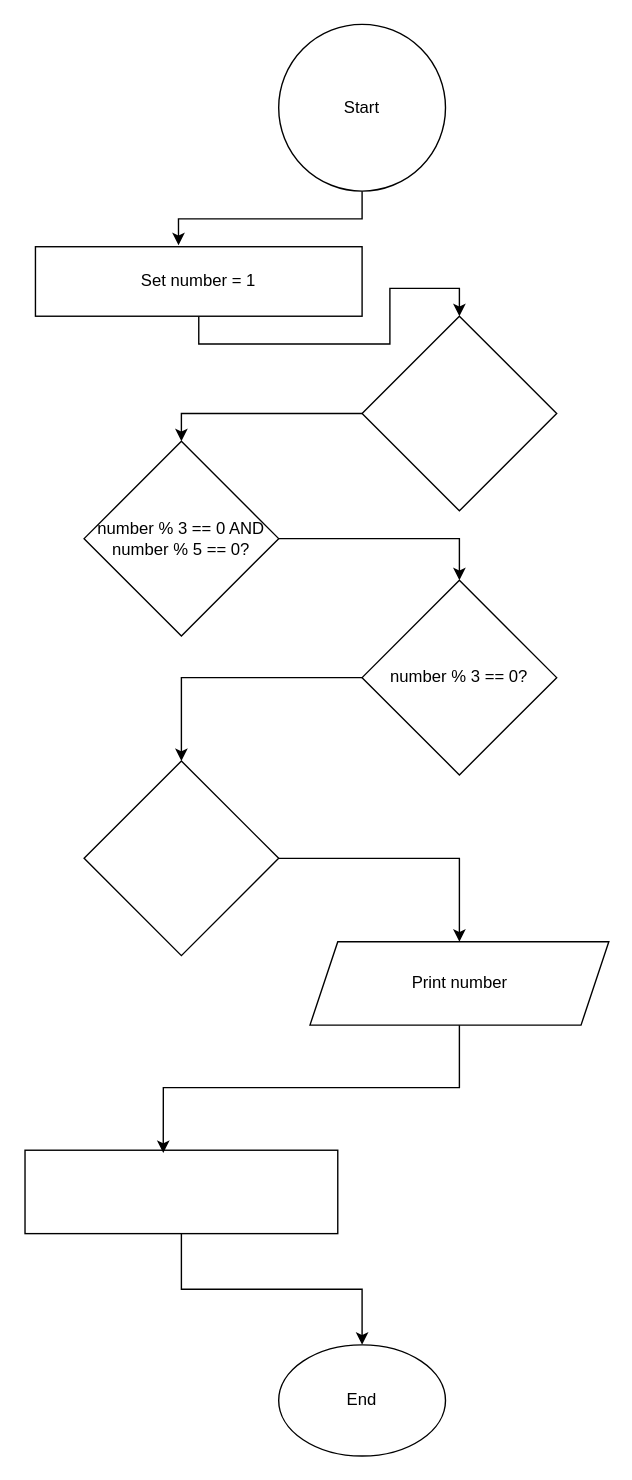
Image size: 632x1480. Some labels were removed from this diagram. Here are the shapes that lost their labels. From the top down, the centre of each, then its label:
the point at 459,413: number <= 25?
the point at 181,858: number % 5 == 0?
the point at 181,1191: number = number + 1
